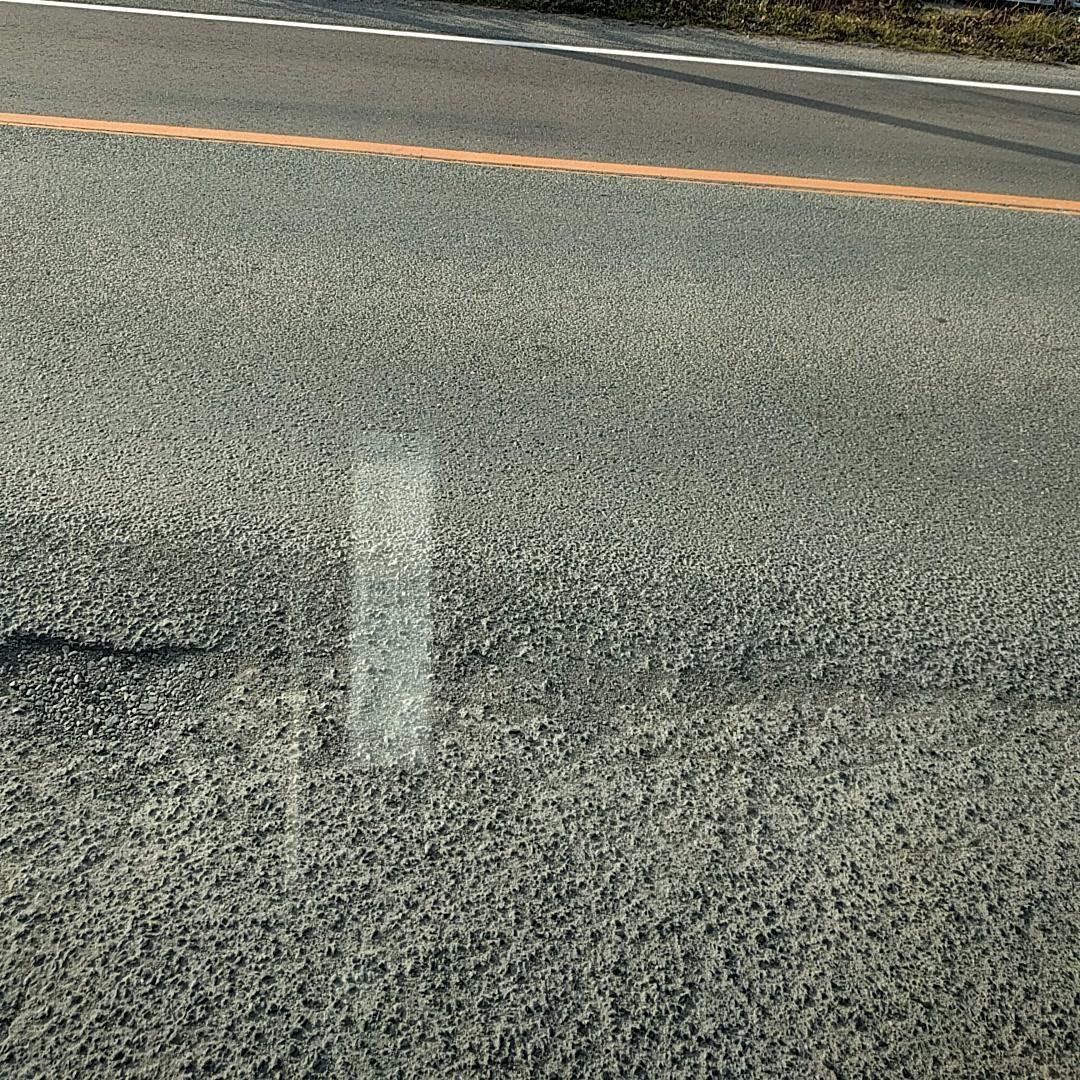pothole: (0, 618, 252, 749)
